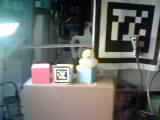duck: (67, 44, 111, 74)
